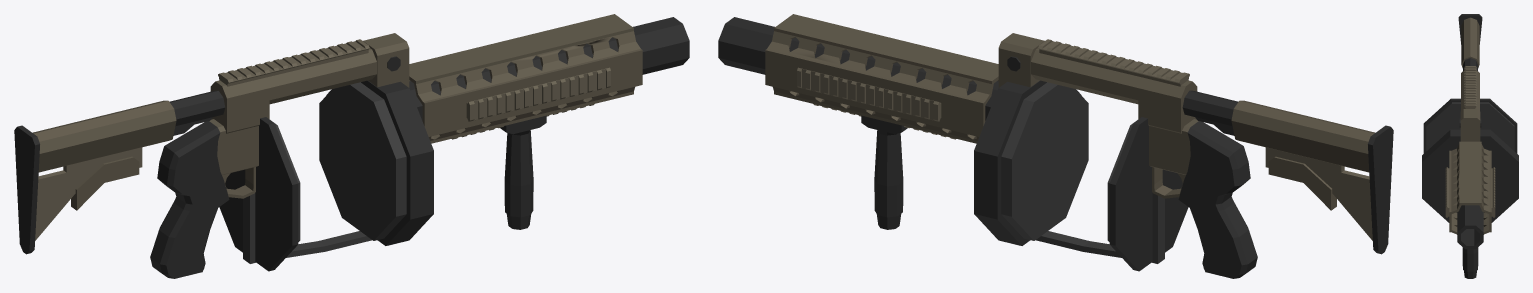
The model's file is HeavyWeapon1_01.fbx.
The picture shows the model from 3 angles, left to right: view 1: azimuth 30°, elevation 25°; view 2: azimuth 150°, elevation 25°; view 3: azimuth 270°, elevation 25°; orthographic projection. The views are drawn at different scales.
Parts seen in each view (by area): view 1: HeavyWeapon1_01; view 2: HeavyWeapon1_01; view 3: HeavyWeapon1_01.
Part boxes in pixels (x1,y1,x2,y2): HeavyWeapon1_01: (14, 14, 689, 278); HeavyWeapon1_01: (718, 14, 1393, 278); HeavyWeapon1_01: (1422, 14, 1518, 278).
Size of the model in its own units: 0.8535 by 0.2756 by 0.1899.
